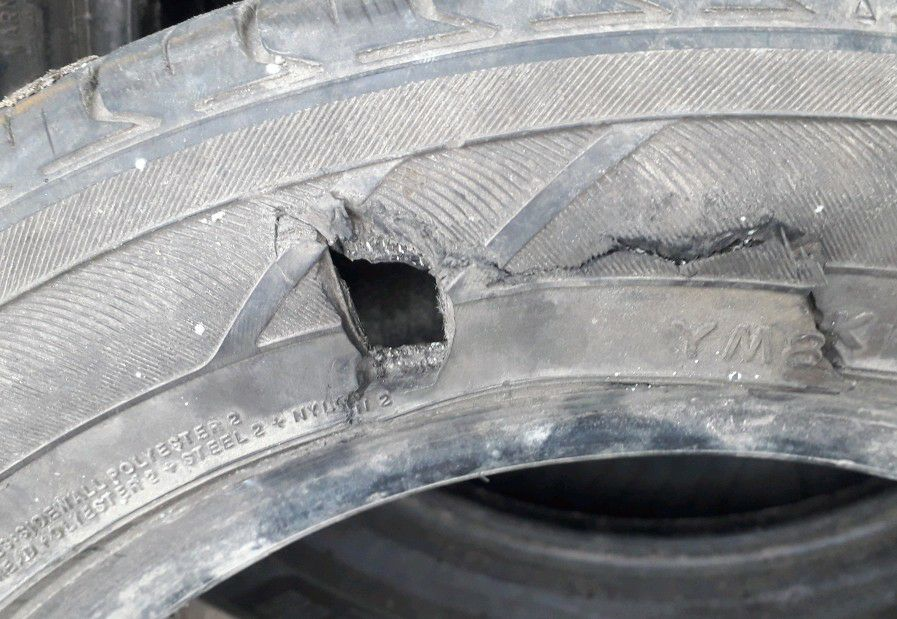bead_damage: (320, 240, 449, 357)
cut: (551, 233, 842, 372)
